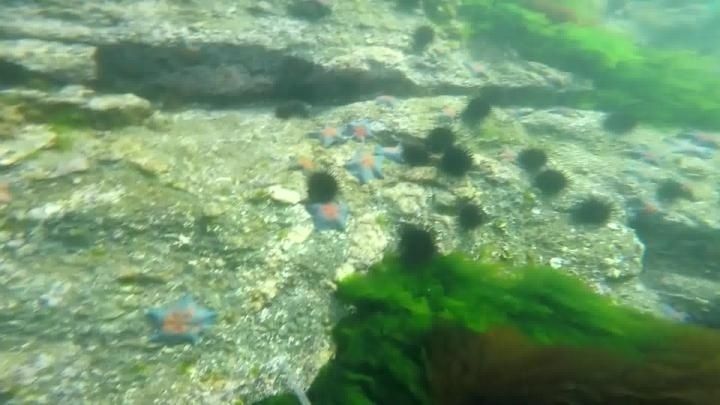echinus: (394, 222, 440, 273), (567, 193, 617, 231), (275, 53, 317, 88), (436, 144, 475, 180), (304, 169, 342, 205), (532, 166, 571, 199), (600, 107, 641, 138), (460, 93, 496, 128), (286, 1, 338, 25), (1, 53, 32, 93), (453, 200, 488, 234), (653, 177, 690, 208), (514, 144, 550, 175), (271, 97, 312, 124), (423, 124, 458, 155), (407, 23, 438, 55), (400, 141, 432, 170)
starfish: (143, 291, 219, 349), (304, 197, 353, 235), (343, 146, 389, 186), (629, 194, 669, 228), (307, 121, 351, 150), (649, 298, 691, 327), (680, 126, 720, 153), (344, 117, 378, 145), (286, 150, 320, 176), (461, 56, 494, 81), (374, 140, 407, 165), (635, 143, 662, 164), (371, 92, 402, 110)
